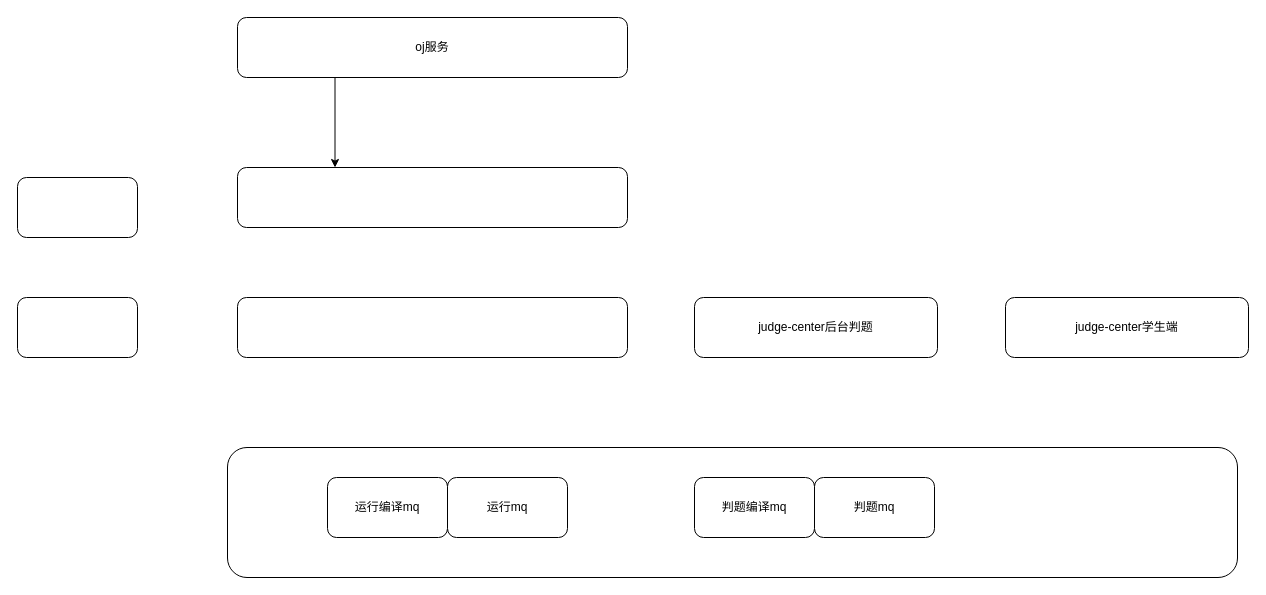
Some shapes in this 1266 by 595 pixel diagram are drawn without their labels. The shapes that lost their labels are listed below. From the top down, each one's centre as x and y in pixels, then its label:
At point (432, 197): "online-judge-service".
At point (432, 327): "judge-center实时判题".
